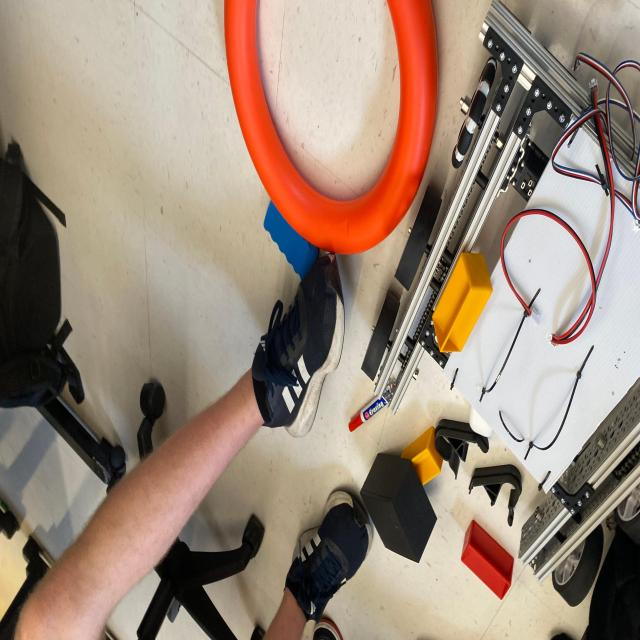red-specimen: (461, 520, 514, 599)
yellow-specimen: (433, 253, 493, 353), (401, 426, 443, 485)
